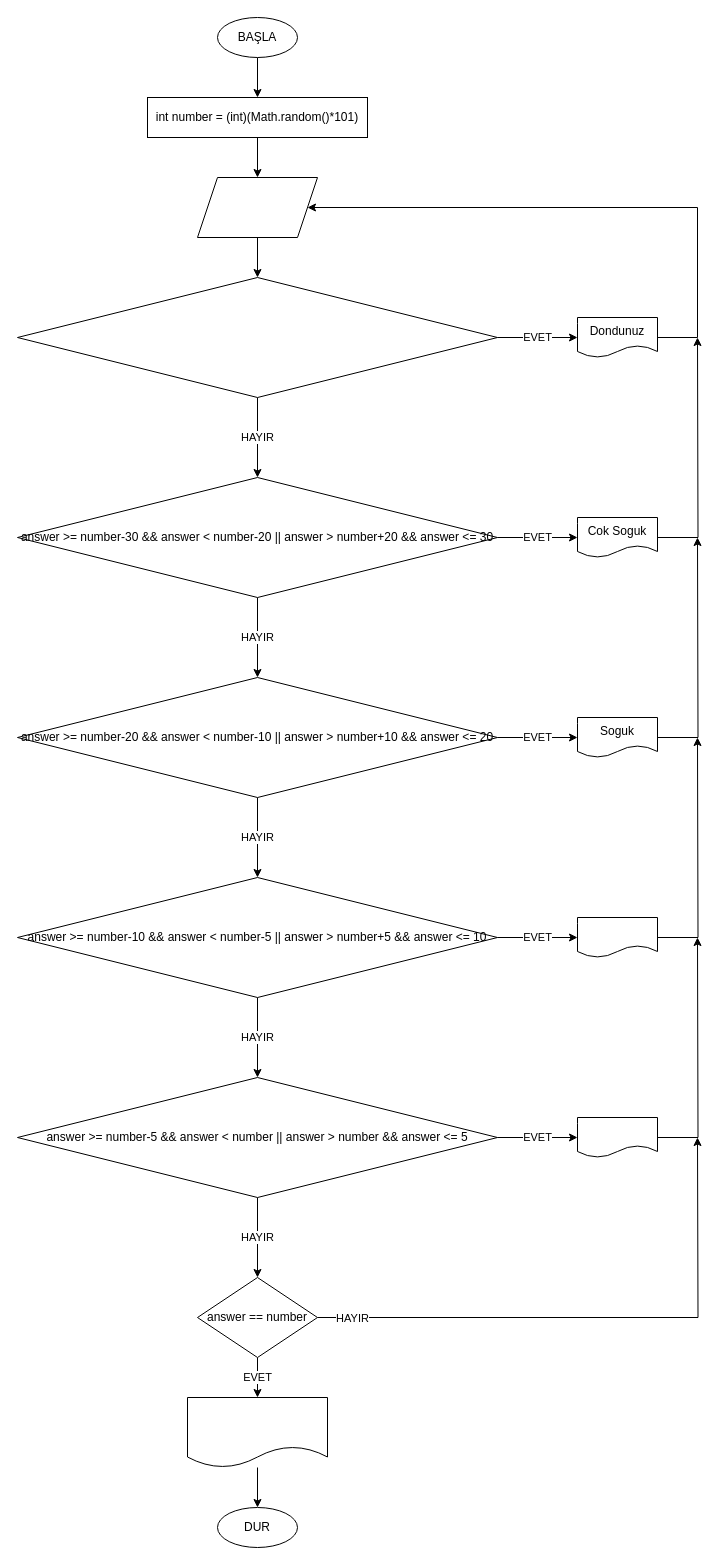
Image size: 724x1565. Some labels were removed from this diagram. Here are the shapes that lost their labels. From the top down, the centre of each, then its label:
(257,207): answer
(257,337): answer >= 0 && answer < number-30 || answer > number+30 && answer <= 100
(617,937): Sicak
(617,1137): Cok Sicak
(257,1432): TEBRİKLER BİLDİNİZ
